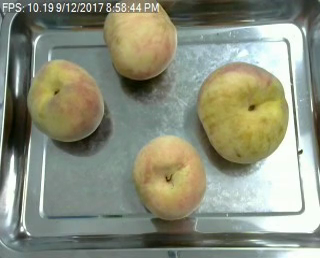Peach: (197, 61, 289, 165), (26, 59, 103, 142), (133, 135, 208, 220), (104, 0, 177, 79)
